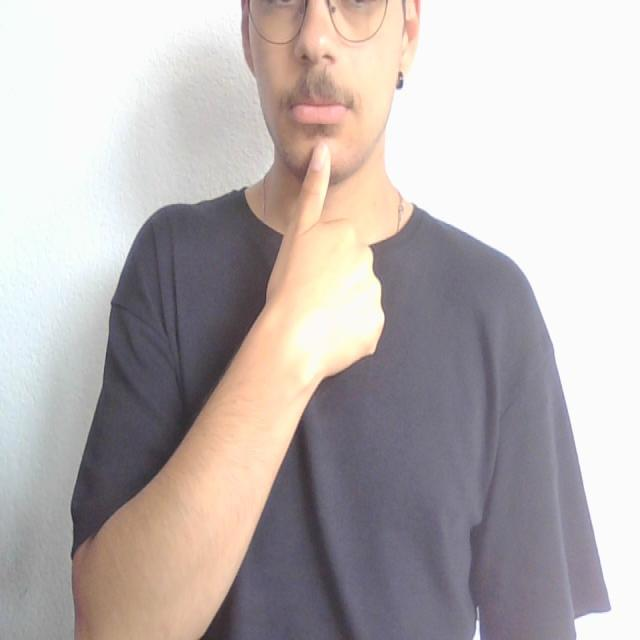Baba: (273, 72, 361, 223)
